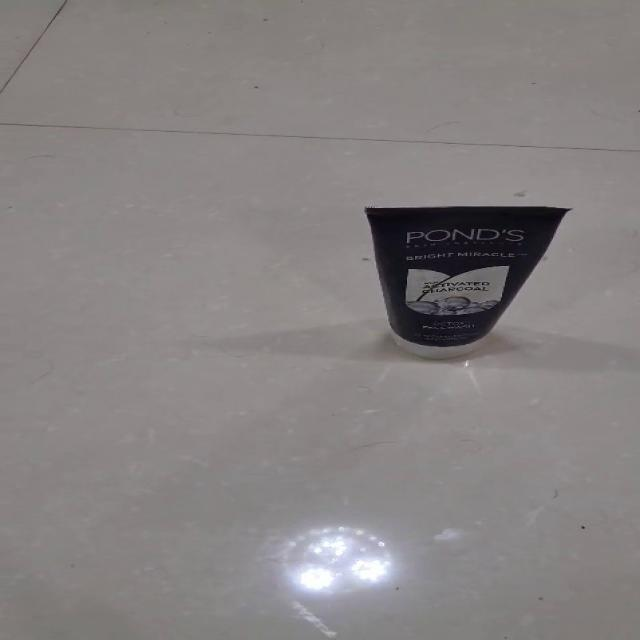plastic: (362, 204, 572, 359)
